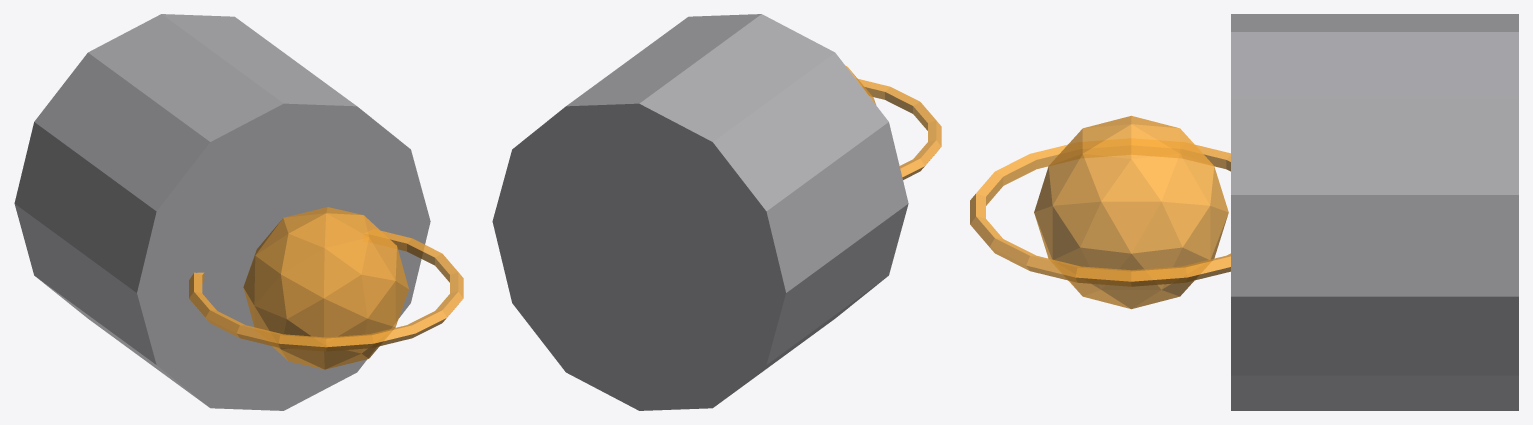
The model's file is resistance_war_table.glb.
The picture shows the model from 3 angles, left to right: view 1: azimuth 30°, elevation 25°; view 2: azimuth 150°, elevation 25°; view 3: azimuth 270°, elevation 25°; orthographic projection. The views are drawn at different scales.
Visible parts, largest first — view 1: pedestal, story_relic, relic_halo; view 2: pedestal, relic_halo; view 3: pedestal, story_relic, relic_halo.
Boxes of the visible parts, <box> form: pedestal: <box>14,14,430,410</box>; story_relic: <box>243,207,408,369</box>; relic_halo: <box>189,231,463,351</box>; pedestal: <box>492,14,908,410</box>; relic_halo: <box>858,79,941,179</box>; pedestal: <box>1231,14,1518,410</box>; story_relic: <box>1034,115,1228,309</box>; relic_halo: <box>970,144,1230,286</box>.
Bounding box in the file's own units: 0.9 × 0.9 × 1.24.
